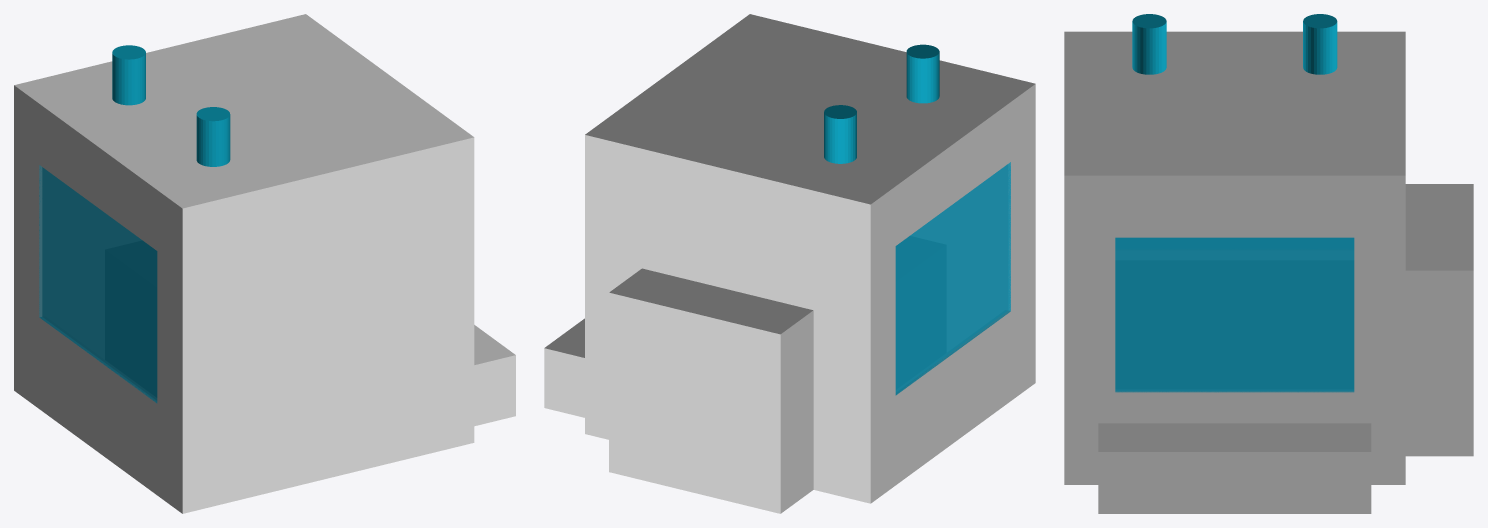
File: dg-ic-Machine1.glb
The picture shows the model from 3 angles, left to right: view 1: azimuth 30°, elevation 25°; view 2: azimuth 150°, elevation 25°; view 3: azimuth 270°, elevation 25°; orthographic projection. The views are drawn at different scales.
Parts seen in each view (by area): view 1: Component; view 2: Component; view 3: Component.
Part boxes in pixels (x1,y1,x2,y2): Component: (14,14,515,513); Component: (544,14,1035,513); Component: (1064,14,1473,513).
Bounding box in the file's own units: 46.5 × 44.56 × 46.5.
